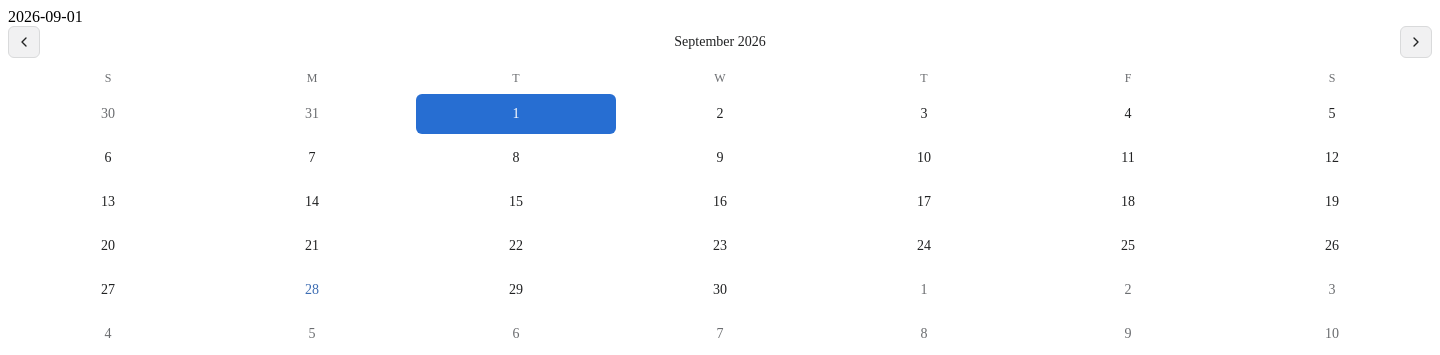
Test: Calendar › moves with an owner that stores what it reports
Click the button "21".
click(312, 246)  # box [212,226,412,266]
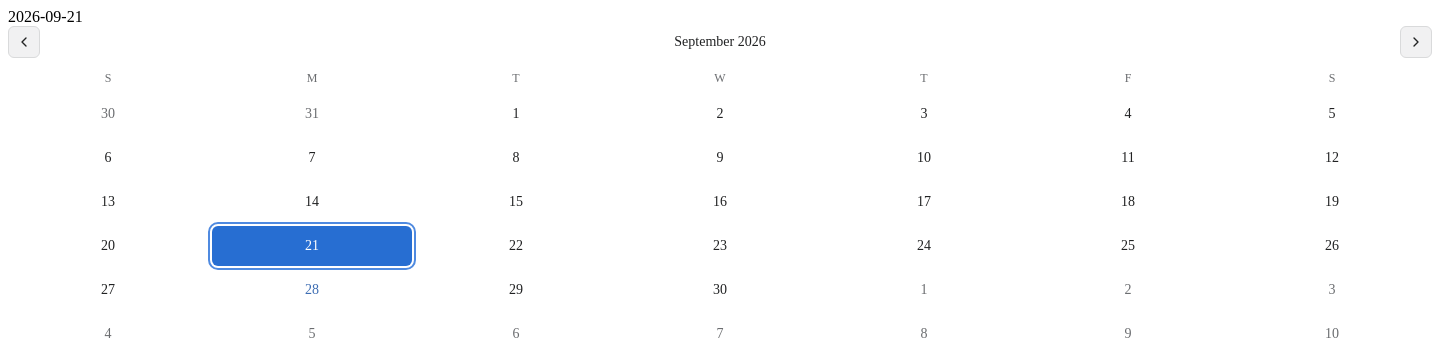
Expected: the text "2026-09-21" is shown, [8,8,83,25]
